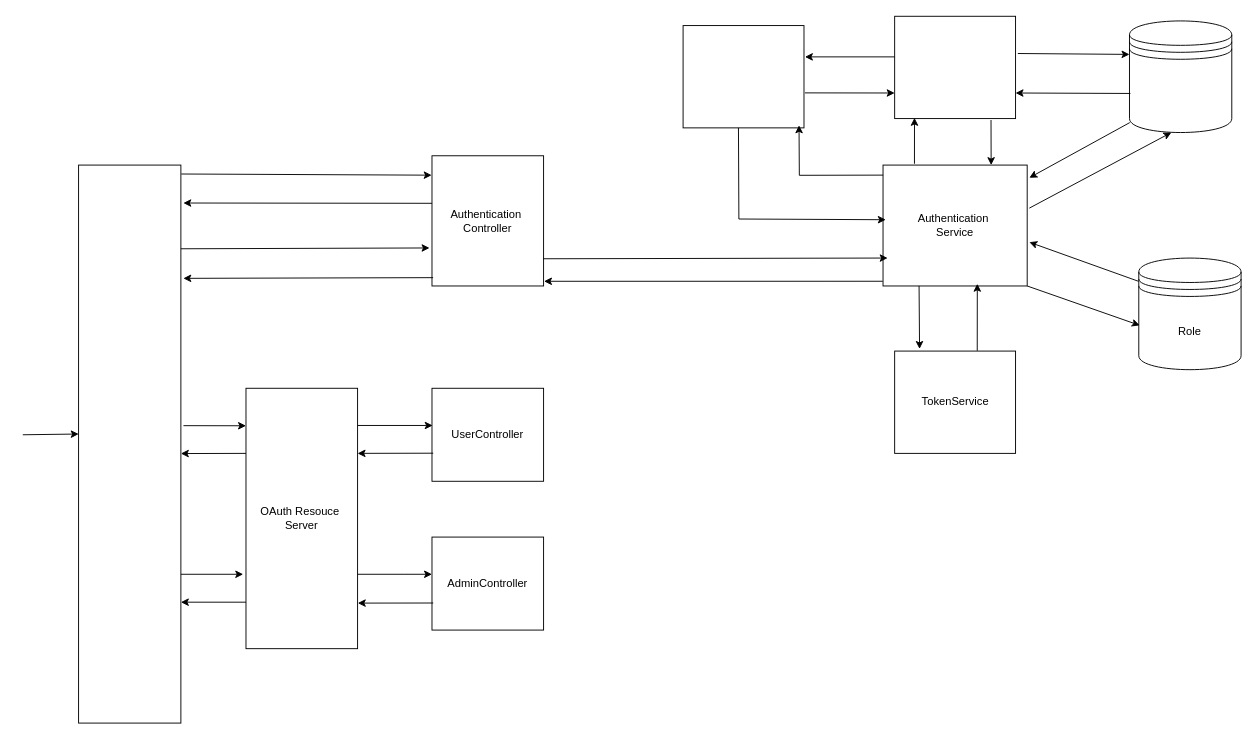
The diagram is 1257 pixels wide and 739 high, and some of its shapes have lost their labels. Each missing label, with the centre of its shape:
Authentication Manager: (743,76)
Security Filter Chain: (129,443)
User: (1180,76)
UserService: (955,67)
